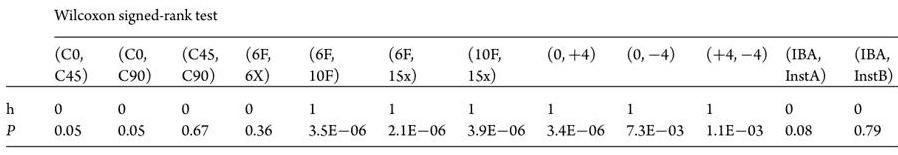table: (5, 5, 892, 150)
table column: (289, 5, 376, 150), (694, 5, 775, 150), (455, 5, 535, 150), (614, 5, 694, 150), (376, 5, 455, 150), (535, 5, 614, 150), (33, 5, 102, 150), (166, 5, 231, 150), (102, 5, 166, 150), (775, 5, 839, 150), (231, 5, 289, 150), (839, 5, 892, 150), (5, 5, 33, 150)
table column header: (5, 5, 892, 92)
table row: (5, 34, 892, 92), (5, 119, 892, 150), (5, 5, 892, 34), (5, 92, 892, 119)
table spanning cell: (33, 5, 892, 34)
